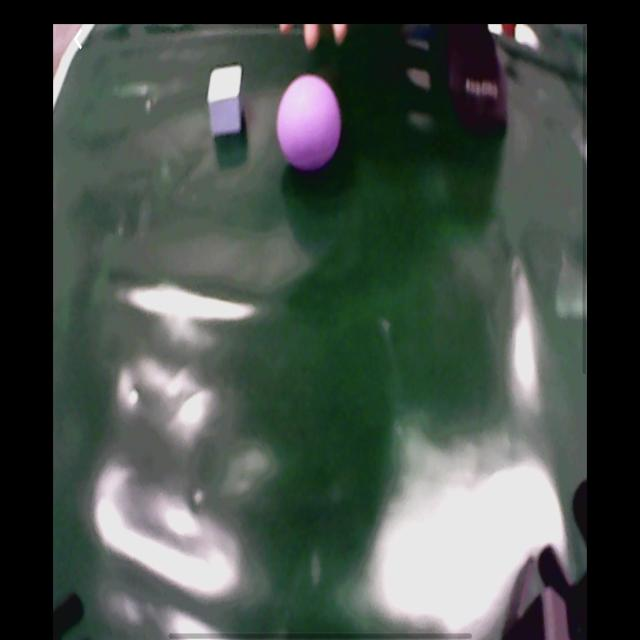ball: (278, 77, 342, 172)
